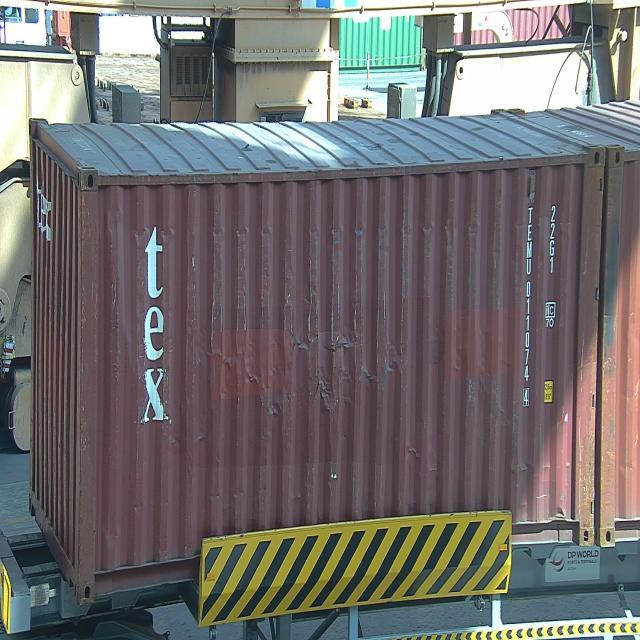dent: (293, 318, 357, 412), (243, 361, 281, 429)
rust: (575, 390, 619, 560)
